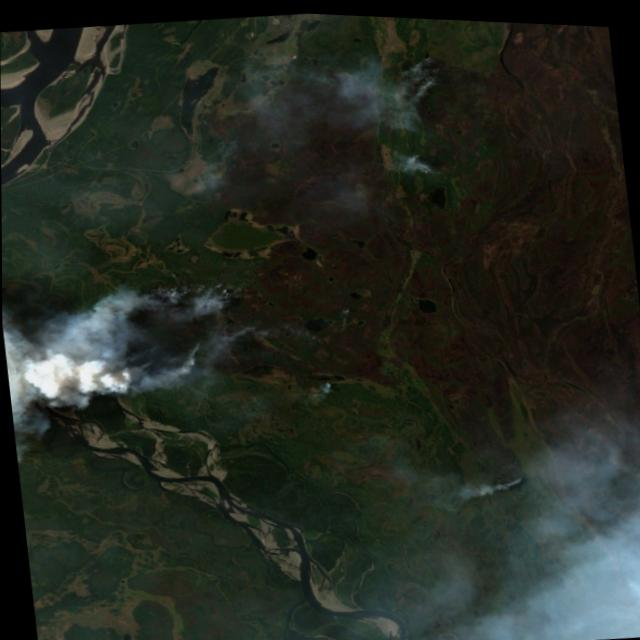fire: (13, 259, 260, 420), (382, 47, 448, 104), (383, 136, 443, 183), (476, 462, 531, 504)
